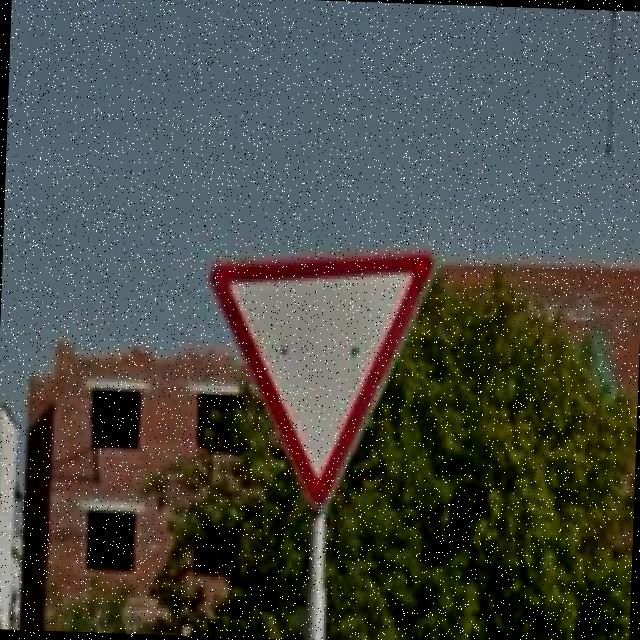Ustap pierwszenstwa: (200, 242, 438, 516)
